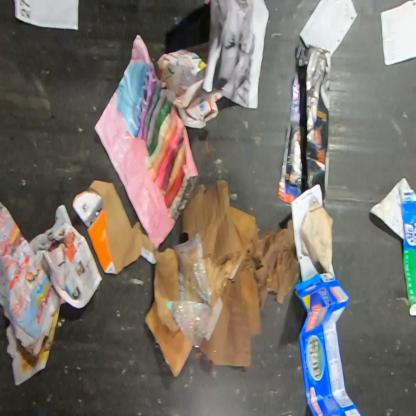cardboard: (144, 178, 299, 378), (294, 272, 363, 416), (72, 179, 155, 274), (300, 201, 334, 272), (401, 188, 415, 316)
